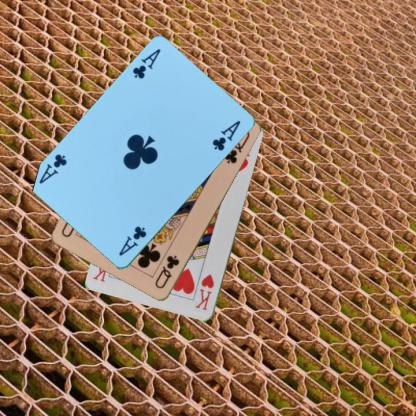Ac: (129, 46, 162, 81), (116, 224, 148, 258)
Kh: (192, 272, 216, 312)
Qc: (152, 253, 181, 291)
